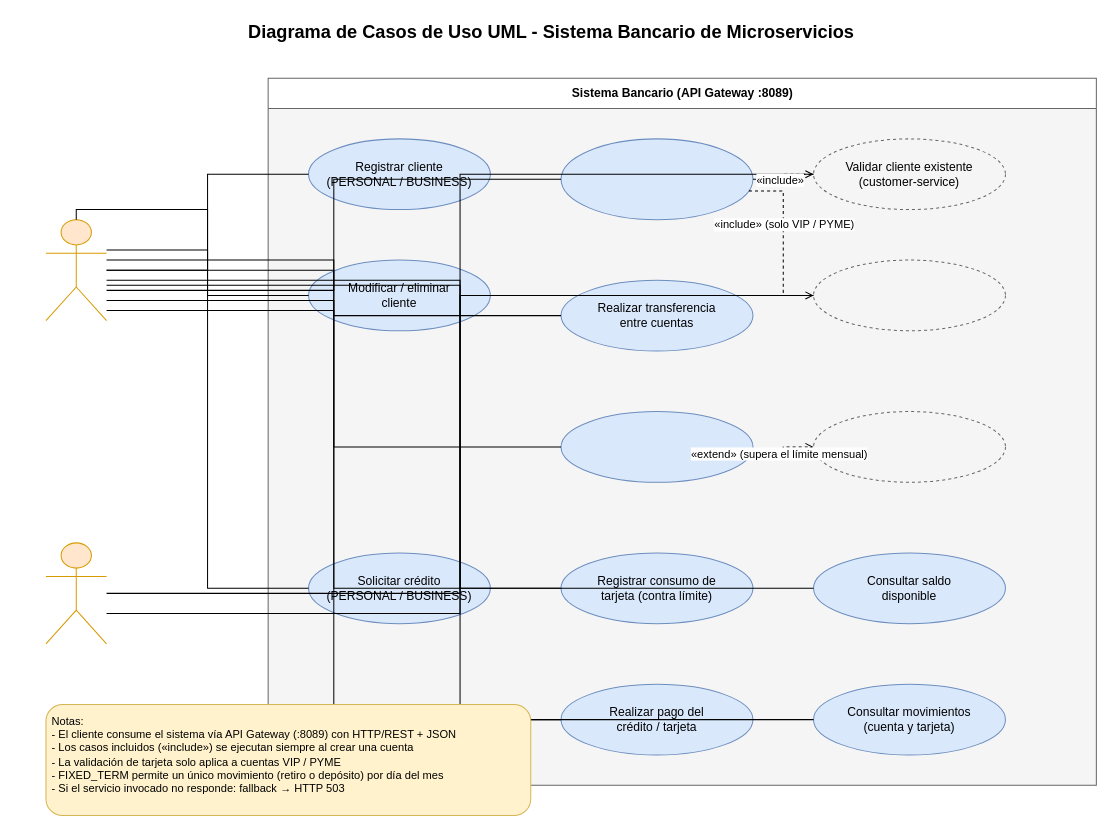
Image size: 1114x833. Some labels were removed from this diagram. Each missing label, with the centre of its shape:
"Calcular comisión por exceso de movimientos" belongs at [909,446].
"Cliente (Persona / Empresa)" belongs at [76,270].
"Crear cuenta bancaria (SAVINGS, CURRENT, FIXED_TERM, VIP, PYME)" belongs at [656,179].
"Registrar movimiento (DEPOSIT / WITHDRAWAL)" belongs at [656,446].
"Sistema externo (otro microservicio)" belongs at [76,593].
"Validar tarjeta de crédito (credit-service, VIP / PYME)" belongs at [909,295].
